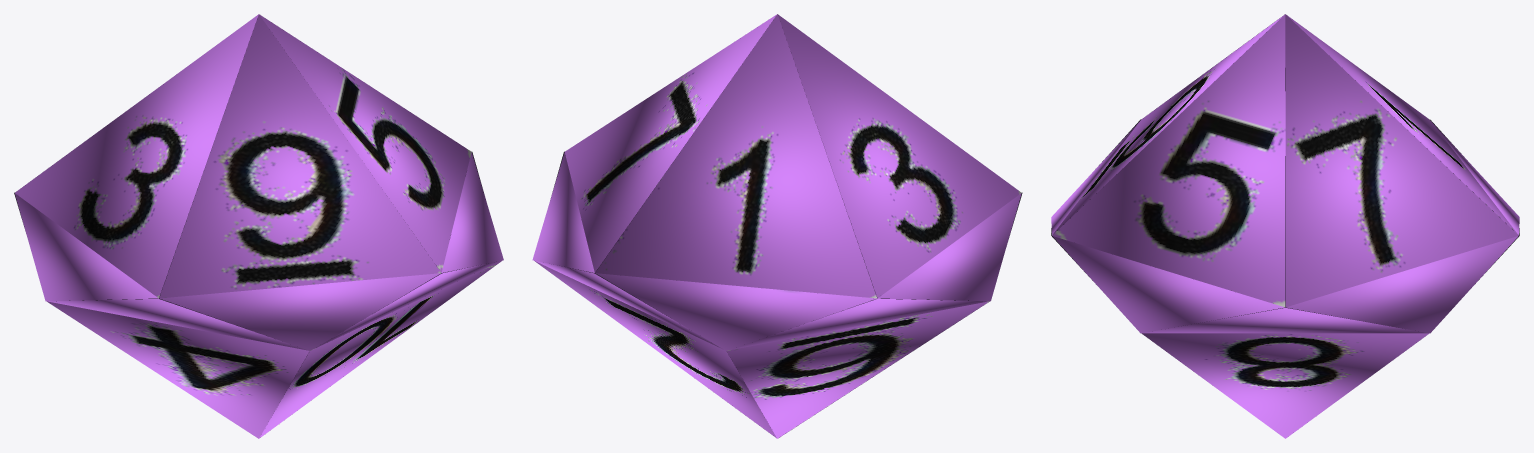
The model's file is dadobest.obj.
The picture shows the model from 3 angles, left to right: view 1: azimuth 30°, elevation 25°; view 2: azimuth 150°, elevation 25°; view 3: azimuth 270°, elevation 25°; orthographic projection.
Parts seen in each view (by area): view 1: pira003, pira002, pira, pira004, pira006, pira007, pira010; view 2: pira005, pira002, pira, pira001, pira008, pira007, pira009; view 3: pira001, pira004, pira, pira010, pira009, pira005, pira003, pira006, pira008.
Part boxes in pixels (x1=…): pira003: x1=159, y1=14, x2=440, y2=298; pira002: x1=15, y1=14, x2=258, y2=298; pira: x1=14, y1=152, x2=501, y2=438; pira004: x1=259, y1=14, x2=471, y2=272; pira006: x1=159, y1=273, x2=440, y2=350; pira007: x1=14, y1=193, x2=158, y2=301; pira010: x1=441, y1=152, x2=503, y2=272; pira005: x1=595, y1=14, x2=877, y2=298; pira002: x1=778, y1=14, x2=1021, y2=298; pira: x1=534, y1=151, x2=1022, y2=438; pira001: x1=565, y1=14, x2=776, y2=272; pira008: x1=595, y1=273, x2=876, y2=350; pira007: x1=878, y1=193, x2=1021, y2=301; pira009: x1=532, y1=152, x2=594, y2=273; pira001: x1=1285, y1=14, x2=1518, y2=307; pira004: x1=1052, y1=14, x2=1285, y2=307; pira: x1=1051, y1=119, x2=1519, y2=438; pira010: x1=1052, y1=236, x2=1284, y2=333; pira009: x1=1286, y1=236, x2=1518, y2=333; pira005: x1=1287, y1=15, x2=1518, y2=235; pira003: x1=1052, y1=15, x2=1283, y2=235; pira006: x1=1051, y1=120, x2=1140, y2=234; pira008: x1=1431, y1=121, x2=1519, y2=234.
Size of the model in its own units: 17.07 by 16.24 by 16.23.
Materials: 20 (20 with a texture image).
